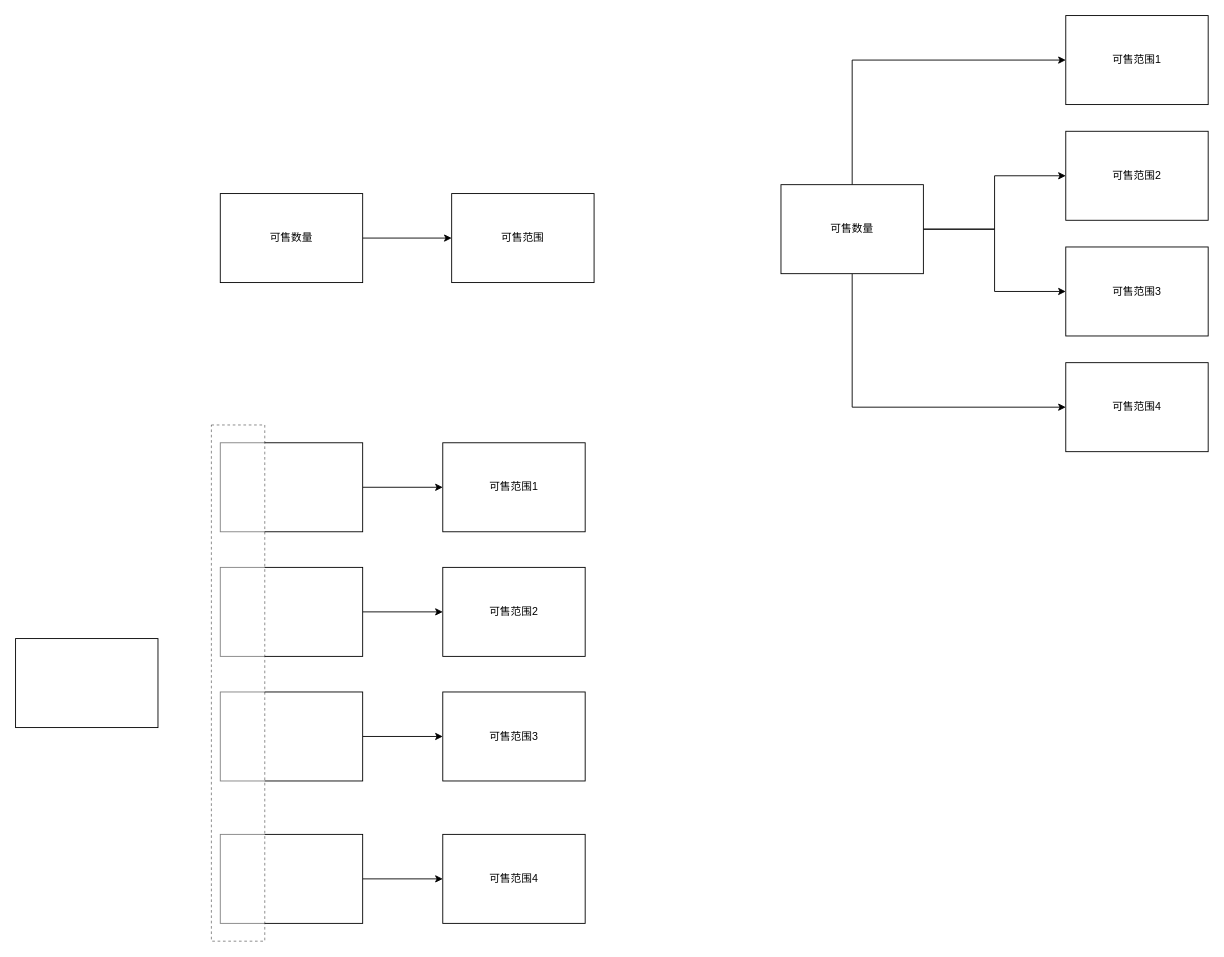
This 1224x957 diagram has some shape labels left out. Here are the shapes that lost their labels. From the top down, the centre of each, then its label:
the point at 291,487: 可售总量1
the point at 291,611: 可售总量2
the point at 86,683: 售出总量
the point at 291,736: 可售总量3
the point at 291,878: 可售总量4
